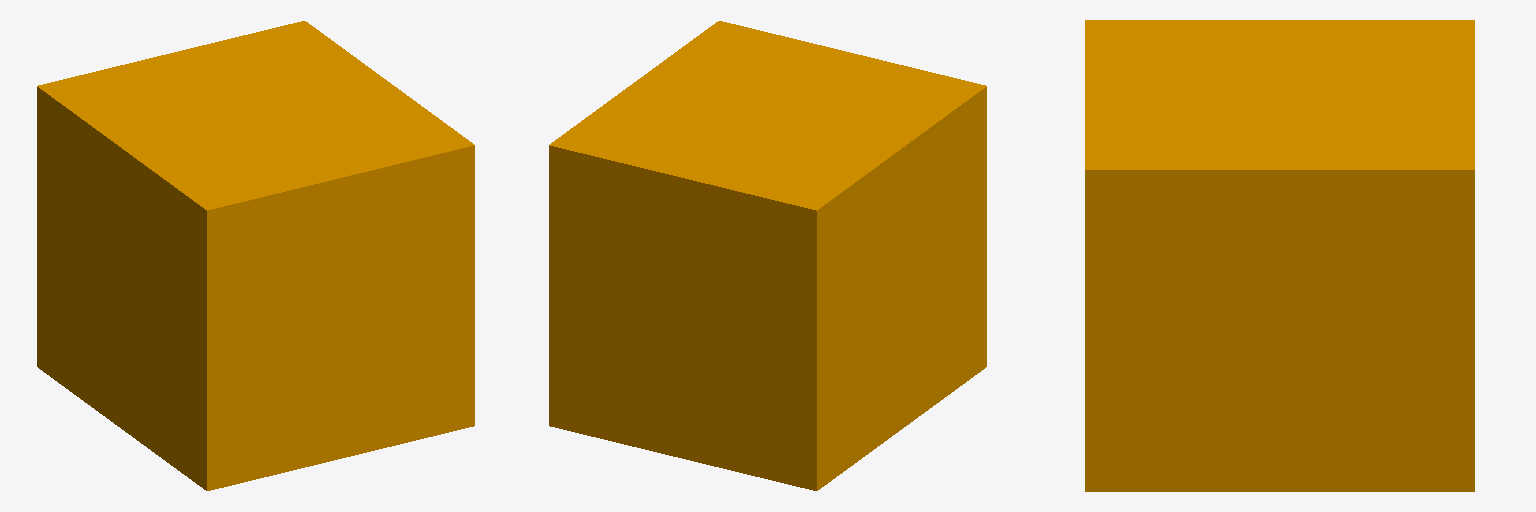
The robot description file, URDF, robot "object":
<robot name="object">
  <link name="object">
    <visual>
      <origin xyz="0 0 0" />
      <geometry>
        <box size="0.08000000000000002 0.08800000000000002 0.08" />
      </geometry>
    </visual>

    <collision>
      <origin xyz="0 0 0" />
      <geometry>
        <box size="0.08000000000000002 0.08800000000000002 0.08" />
      </geometry>
    </collision>

    <inertial>
      <mass value="0.05" />
      <inertia ixx="0.0001" ixy="0.0" ixz="0.0" iyy="0.0001" iyz="0.0" izz="0.0001" />
    </inertial>
  </link>
</robot>

--- What the picture shows (computed from the rendered views, not written in the file) ---
The picture shows the robot from 3 angles, left to right: view 1: azimuth 30°, elevation 25°; view 2: azimuth 150°, elevation 25°; view 3: azimuth 270°, elevation 25°; orthographic projection.
Model object with 1 links and 0 joints (none), rooted at object, posed every joint at zero.
Visible links, largest first — view 1: object; view 2: object; view 3: object.
Link boxes in pixels (x1,y1,x2,y2): object: [37, 21, 474, 490]; object: [549, 21, 986, 490]; object: [1085, 20, 1474, 491].
Bounding box of the posed robot: 0.08 × 0.088 × 0.08 m (x, y, z).
Geometry: primitives only (box / cylinder / sphere), no mesh files.